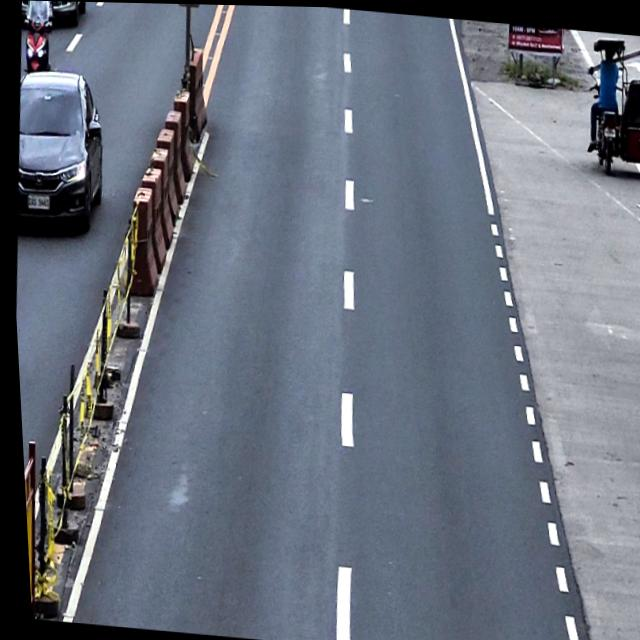Car: (9, 65, 109, 230)
License-Plate: (23, 190, 49, 211), (602, 122, 615, 136)
Motorcycle: (19, 11, 56, 76)
Tricycle: (577, 32, 640, 176)
